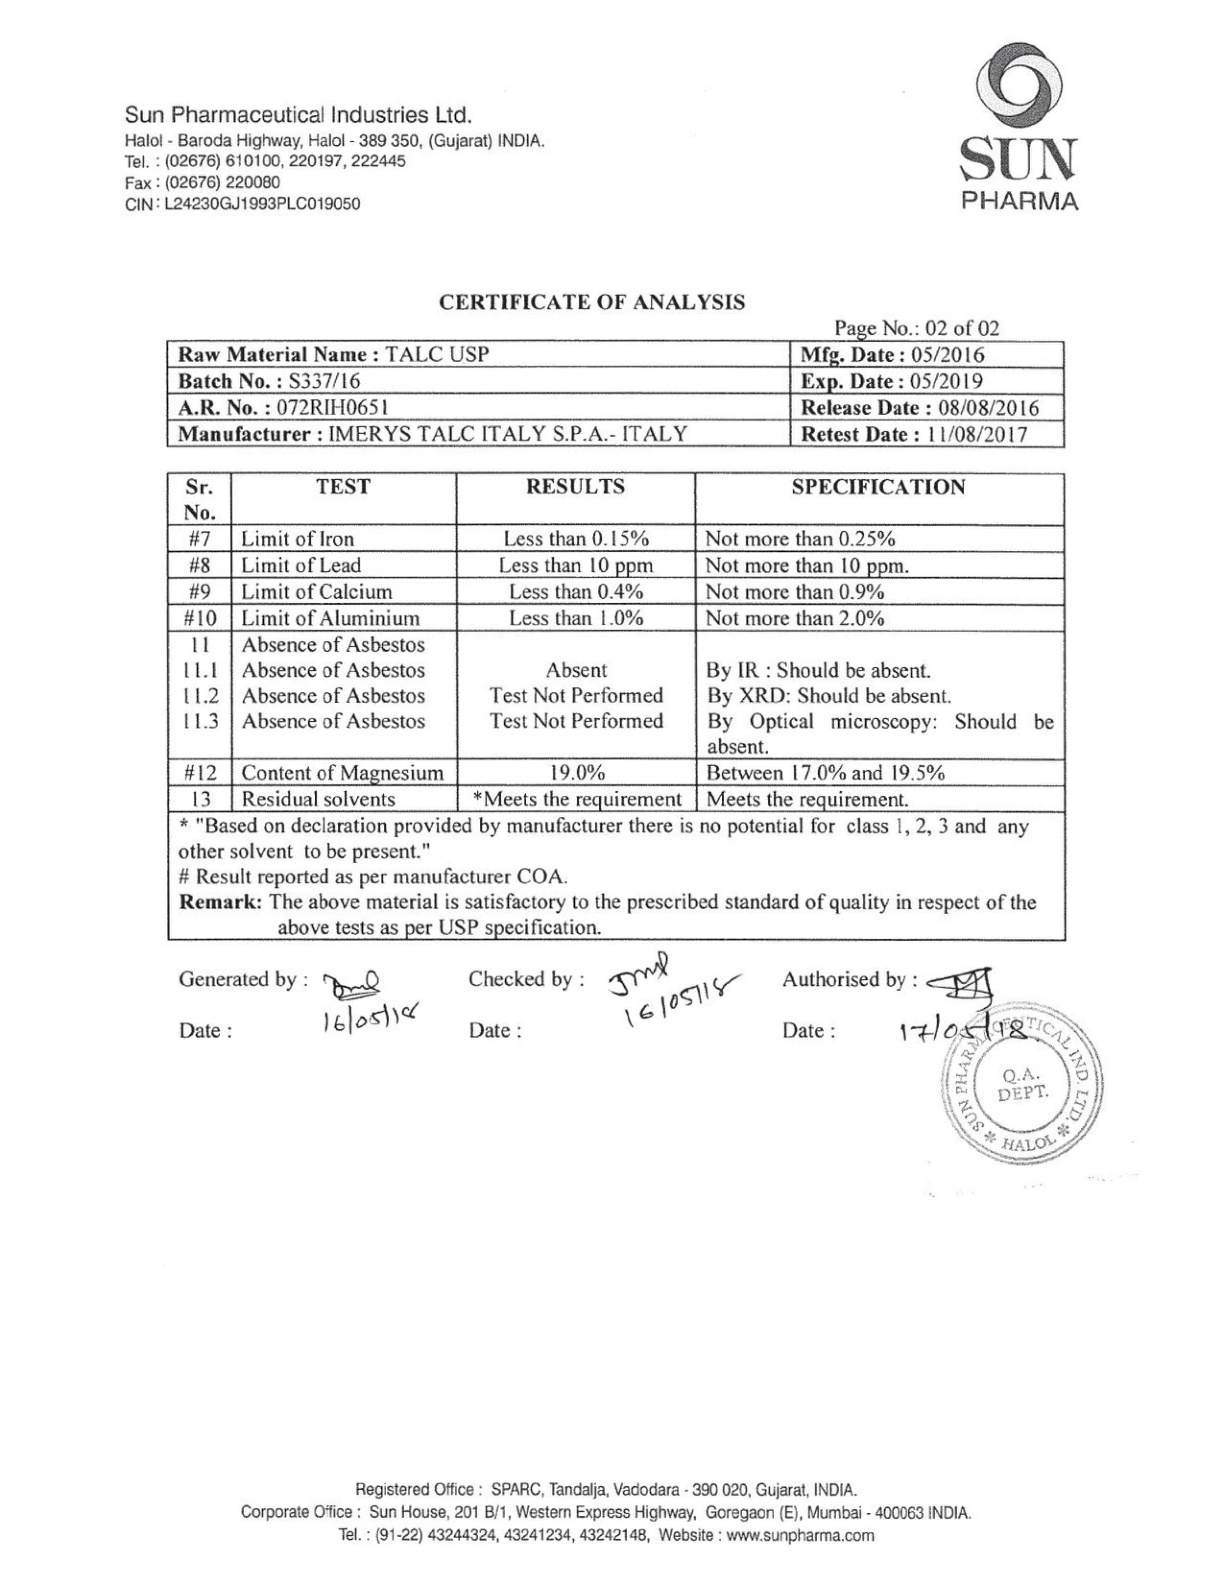full_lined: (165, 339, 1066, 449)
merged_cells: (165, 470, 1067, 942)
